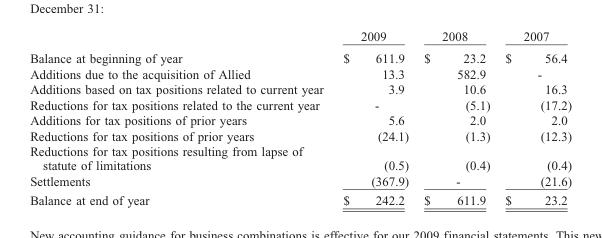table: (29, 28, 570, 207)
table column: (29, 28, 332, 207), (332, 28, 415, 207), (415, 28, 497, 207), (497, 28, 570, 207)
table column header: (29, 28, 570, 46)
table row: (29, 143, 570, 172), (29, 46, 570, 65), (29, 28, 570, 46), (29, 172, 570, 190), (29, 190, 570, 207), (29, 65, 570, 81), (29, 96, 570, 112), (29, 127, 570, 143), (29, 81, 570, 96), (29, 112, 570, 127)
